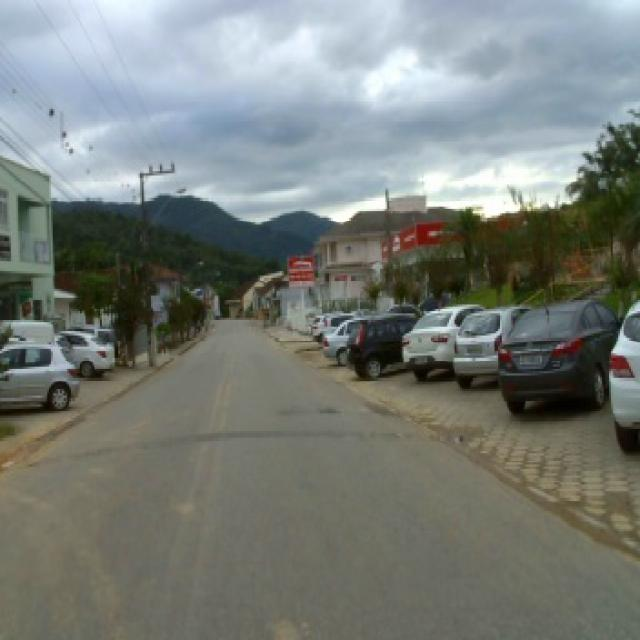Poth-hole: (316, 404, 342, 414), (451, 433, 464, 442)
